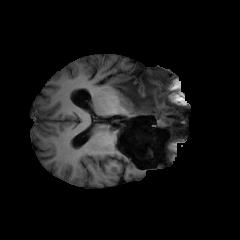glioma: (98, 73, 179, 145)
